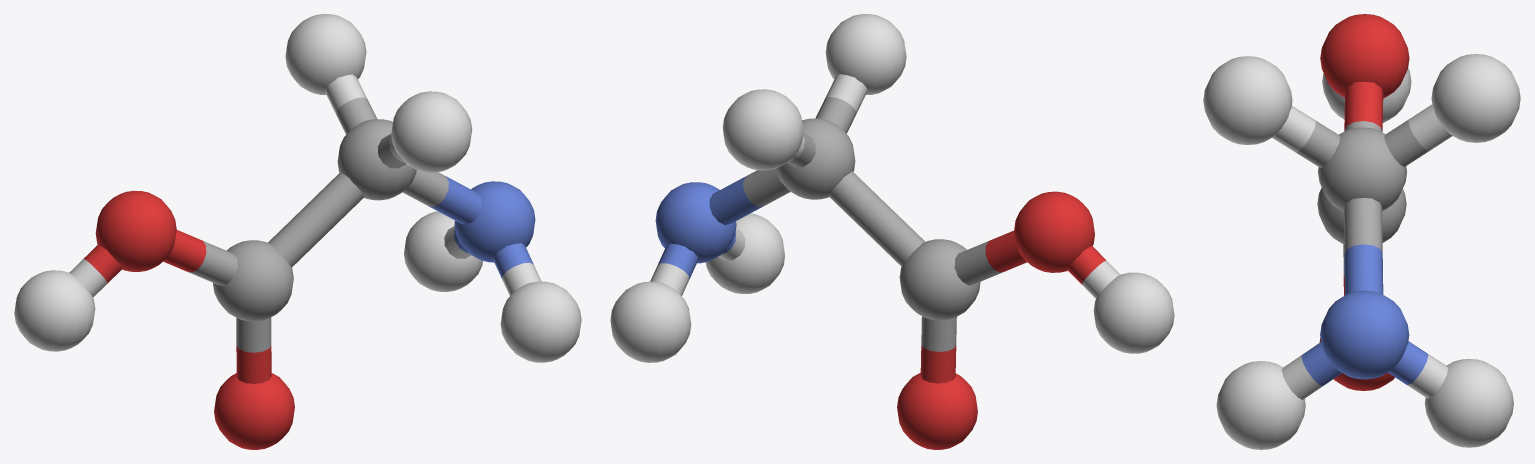
File: glycine-bas.glb
3 views of the same model, side by side, from view 1: azimuth 30°, elevation 25°; view 2: azimuth 150°, elevation 25°; view 3: azimuth 270°, elevation 25° (orthographic). The views are drawn at different scales.
Visible parts, largest first — view 1: glycine-bas; view 2: glycine-bas; view 3: glycine-bas.
Part boxes in pixels (x1=…): glycine-bas: x1=14, y1=14, x2=581, y2=449; glycine-bas: x1=610, y1=14, x2=1174, y2=449; glycine-bas: x1=1203, y1=14, x2=1520, y2=449.
Bounding box in the file's own units: 5.05 × 3.41 × 2.49.
